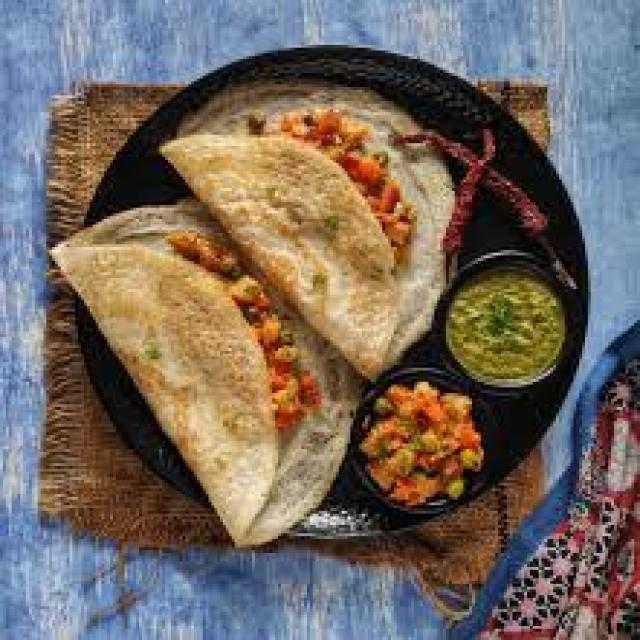DOSA: (55, 199, 364, 553), (159, 81, 464, 380)
